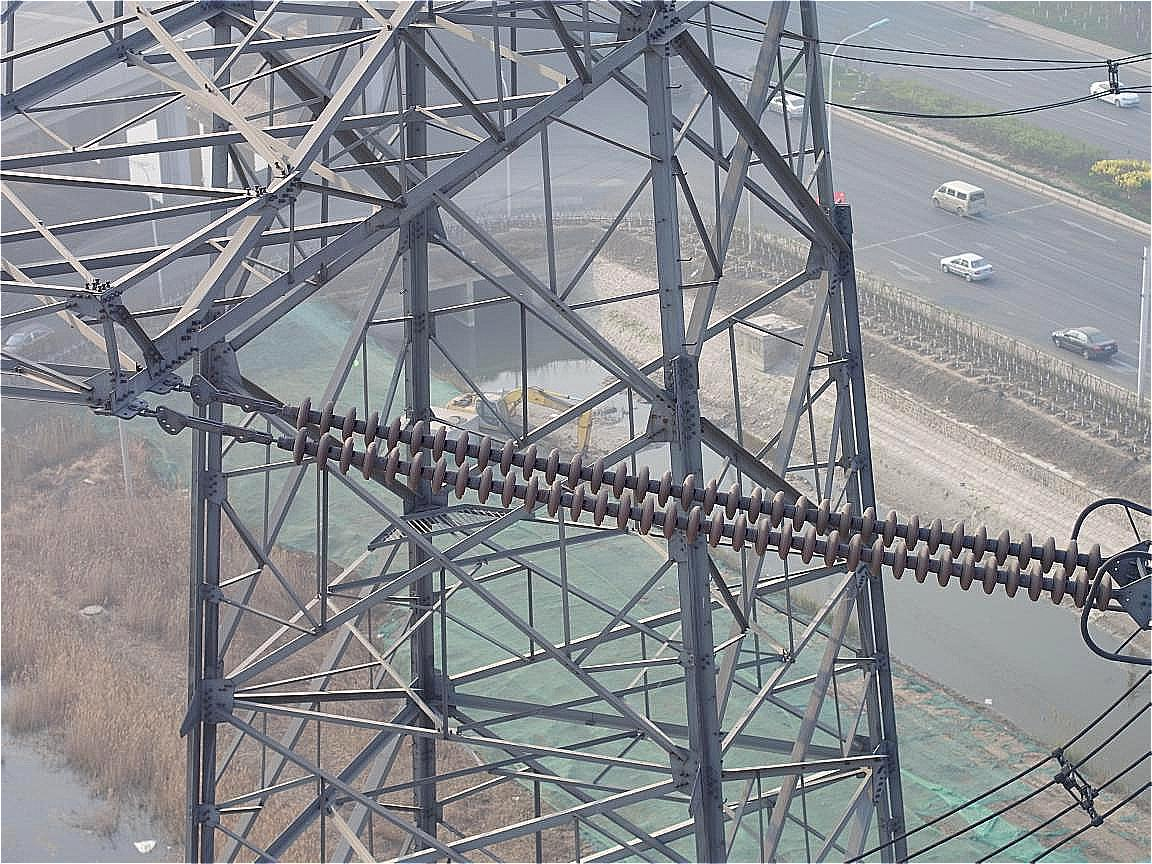insultor1: (255, 379, 1142, 617)
